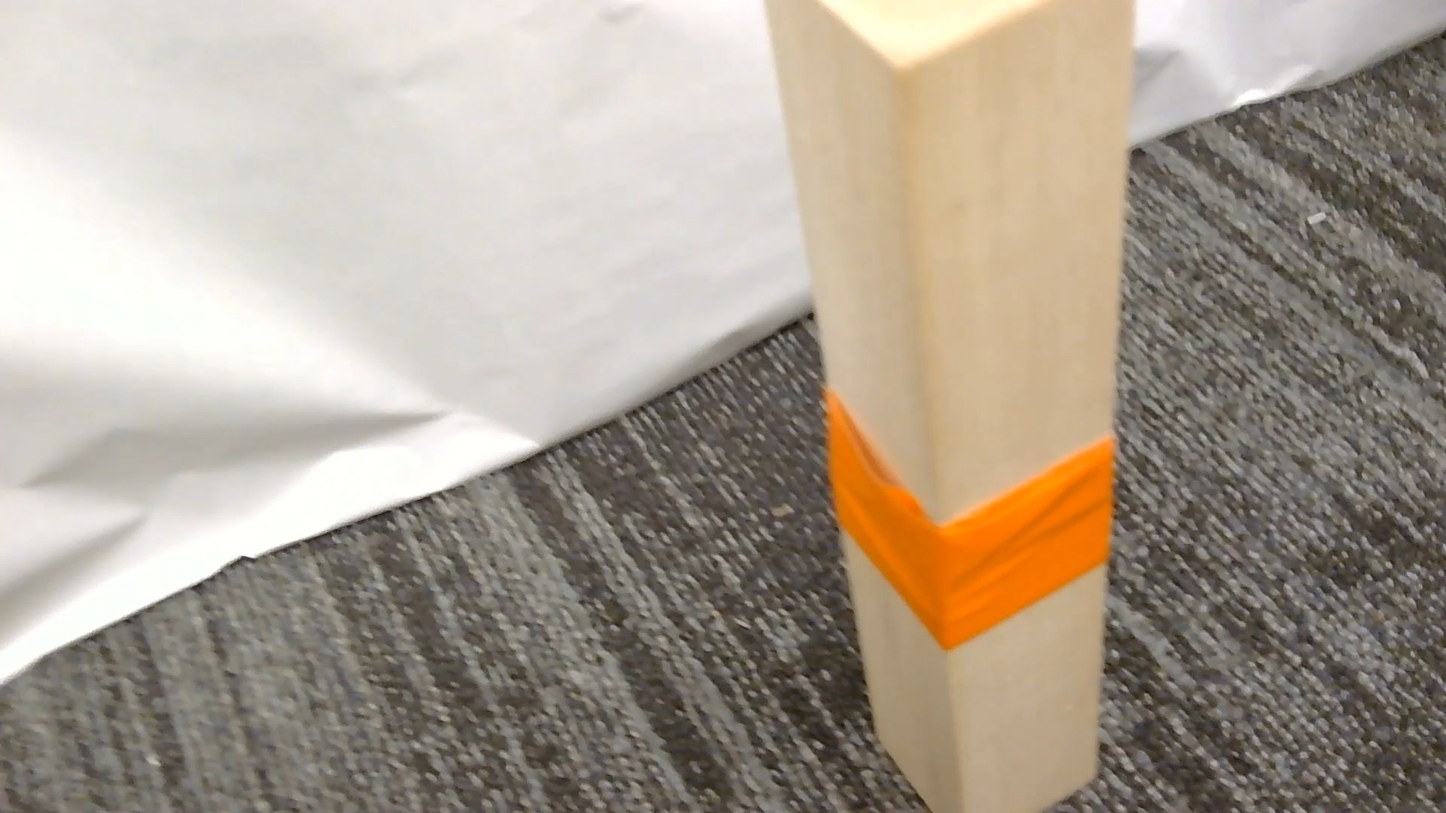Wooden Block: (764, 0, 1134, 812)
